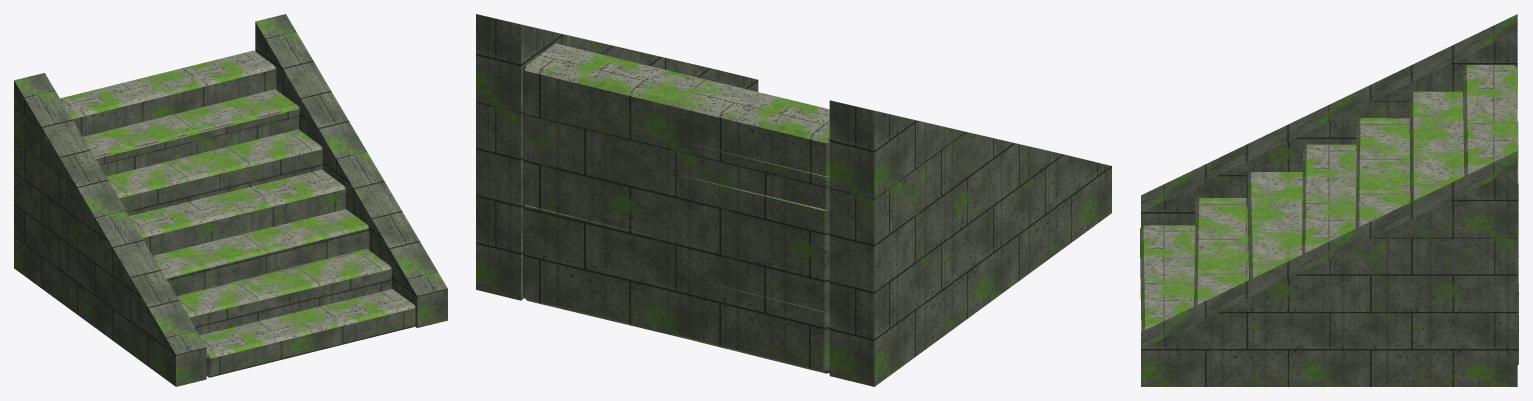
File: Stairs_Stone.fbx
3 renders of one model, left to right at view 1: azimuth 30°, elevation 25°; view 2: azimuth 150°, elevation 25°; view 3: azimuth 270°, elevation 25°, orthographic. The views are drawn at different scales.
Parts seen in each view (by area): view 1: Stairs_Stone.001; view 2: Stairs_Stone.001; view 3: Stairs_Stone.001.
Boxes of the visible parts, <box> form: Stairs_Stone.001: <box>14,14,447,386</box>; Stairs_Stone.001: <box>476,14,1111,386</box>; Stairs_Stone.001: <box>1140,14,1518,386</box>.
Bounding box in the file's own units: 3.1 × 2.05 × 3.22.
